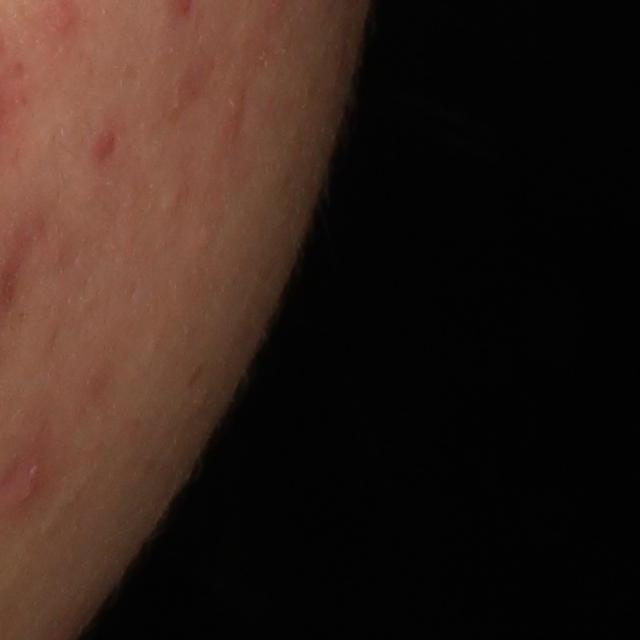papule: (84, 124, 113, 162)
